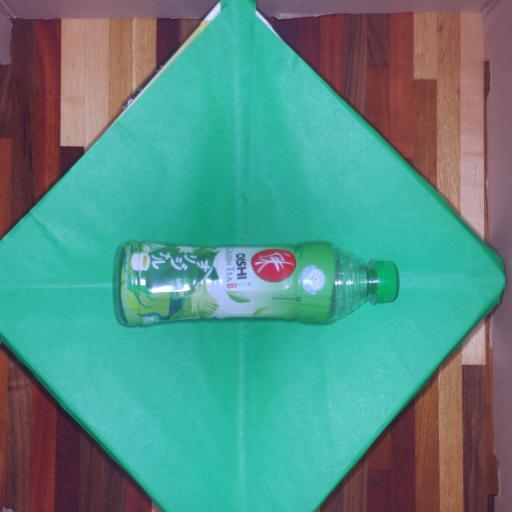bottle: (90, 232, 414, 336)
